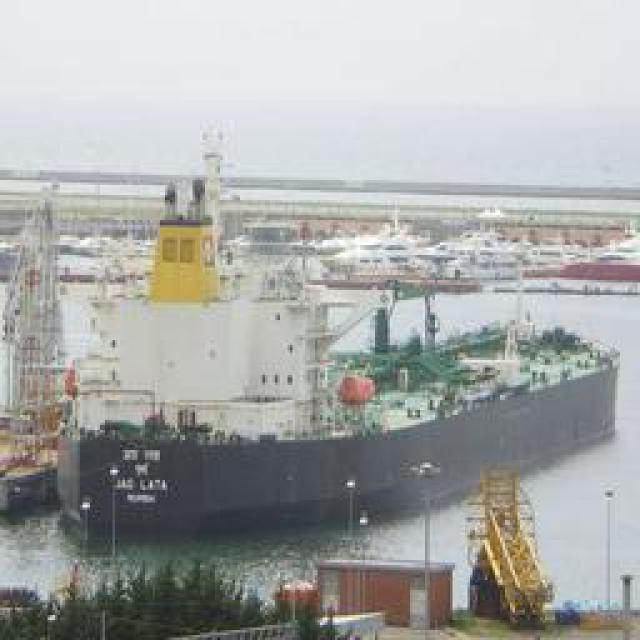Ship: (40, 151, 625, 531)
